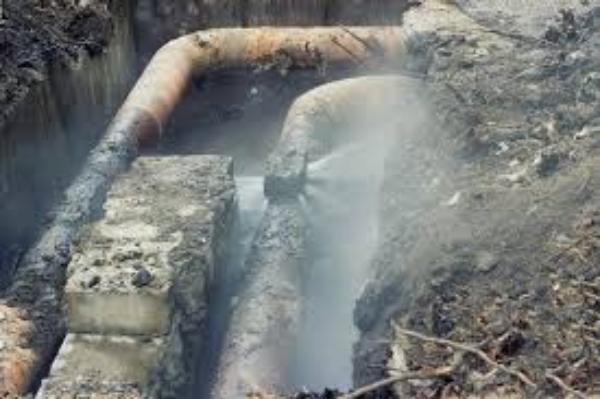pipe burst: (234, 112, 388, 226)
